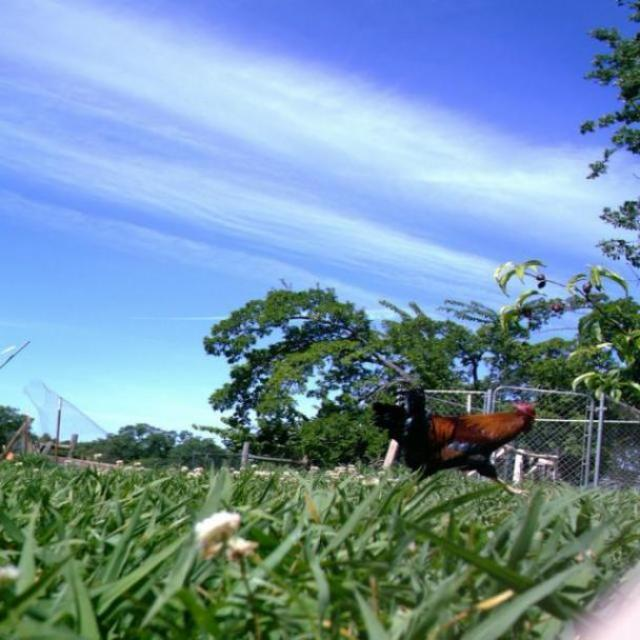Chicken: (380, 386, 553, 482)
